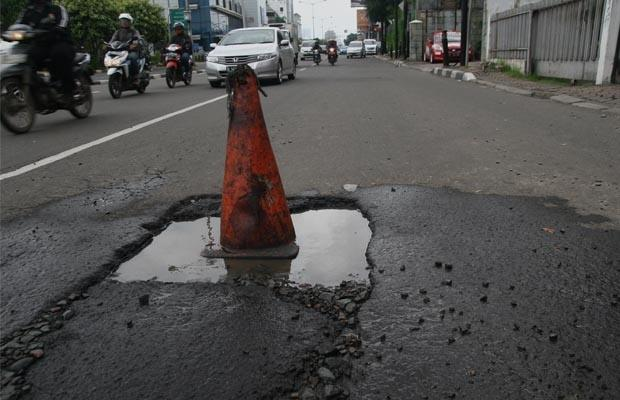Pothole: (93, 171, 386, 334)
